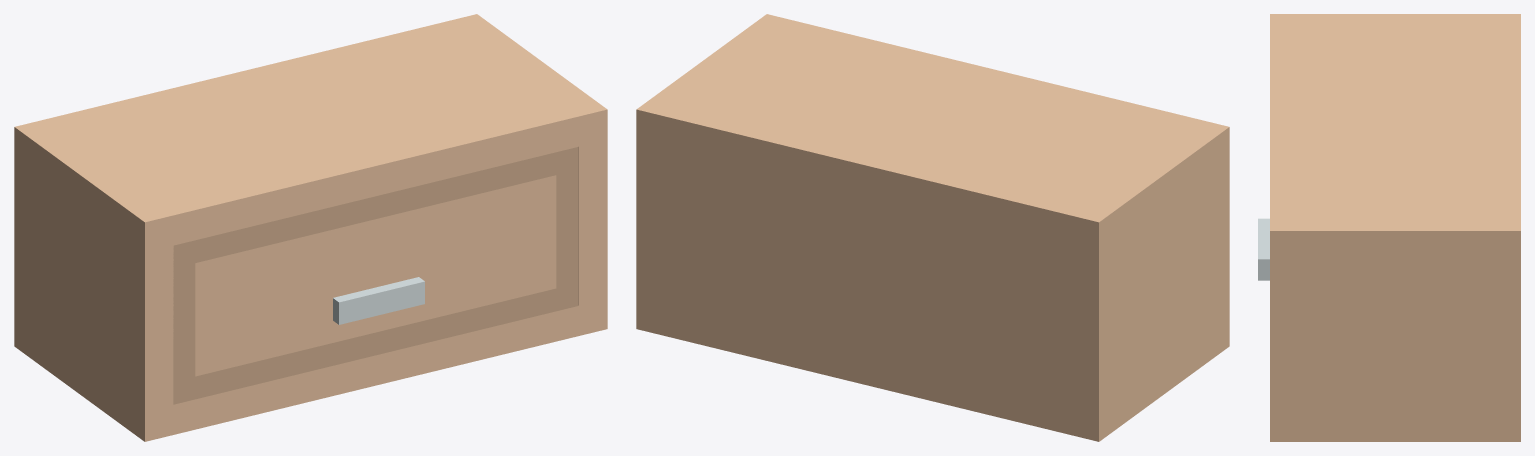
Rendered from cabinetUpperLow.glb.
3 renders of one model, left to right at view 1: azimuth 30°, elevation 25°; view 2: azimuth 150°, elevation 25°; view 3: azimuth 270°, elevation 25°, orthographic. The views are drawn at different scales.
Parts seen in each view (by area): view 1: kitchenCabinetUpperLow(Clone), door.007; view 2: kitchenCabinetUpperLow(Clone); view 3: kitchenCabinetUpperLow(Clone), door.007.
Boxes of the visible parts, x1,y1,x2,y2 form: kitchenCabinetUpperLow(Clone): [14, 14, 607, 441]; door.007: [173, 147, 578, 404]; kitchenCabinetUpperLow(Clone): [636, 14, 1229, 441]; kitchenCabinetUpperLow(Clone): [1270, 14, 1520, 441]; door.007: [1258, 218, 1269, 280].
Bounding box in the file's own units: 0.43 × 0.195 × 0.22.
